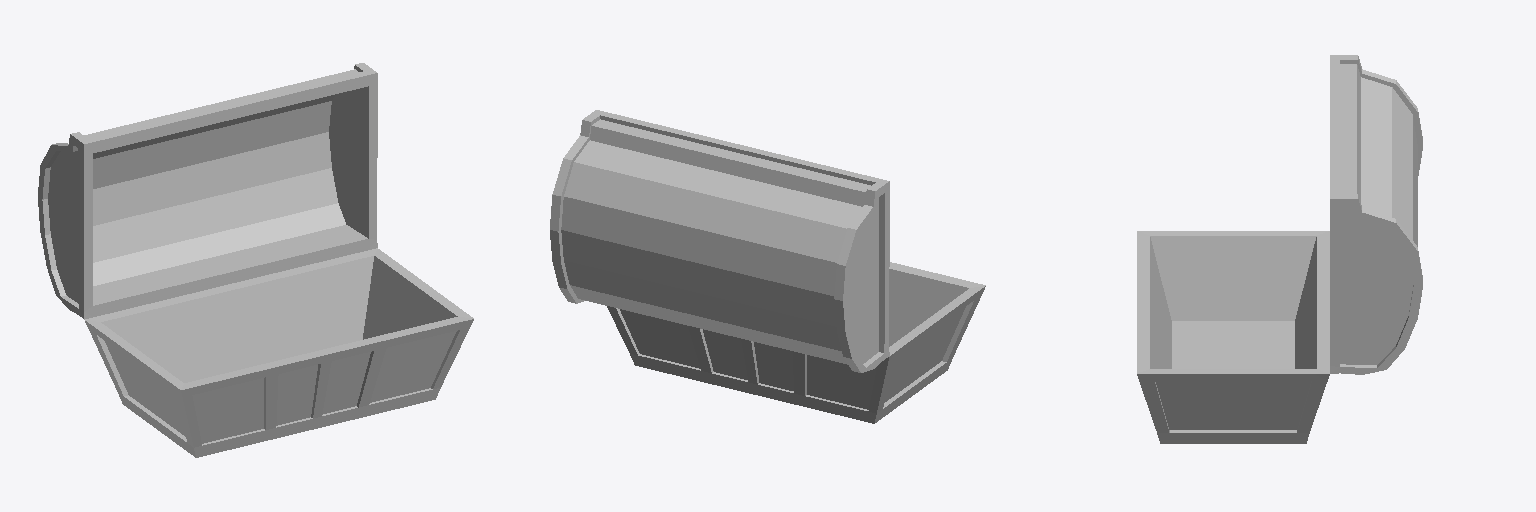
Rendered from DS_Chest_Open.obj.
3 views of the same model, side by side, from view 1: azimuth 30°, elevation 25°; view 2: azimuth 150°, elevation 25°; view 3: azimuth 270°, elevation 25° (orthographic).
Parts seen in each view (by area): view 1: default; view 2: default; view 3: default.
Boxes of the visible parts, box(x1,y1,x2,y2) form: default: box(38, 63, 473, 457); default: box(550, 110, 985, 423); default: box(1137, 55, 1422, 443).
Bounding box in the file's own units: 3.65 × 3.06 × 3.09.